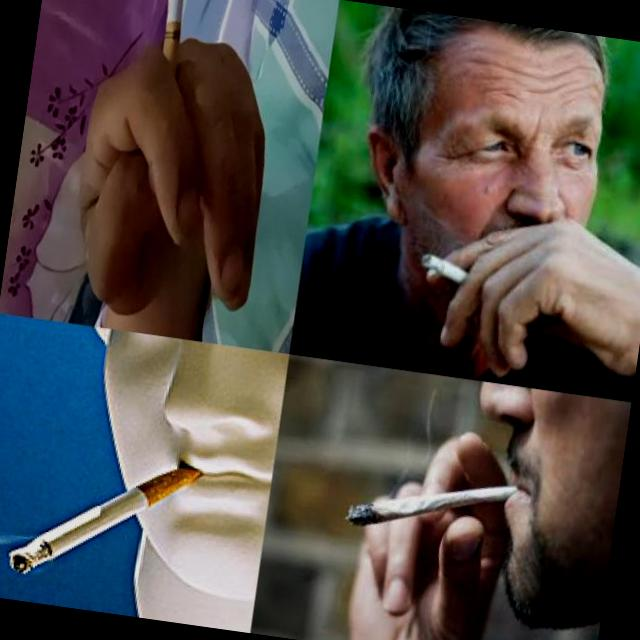smoke: (8, 440, 208, 598), (344, 463, 518, 549), (150, 0, 191, 112), (417, 252, 479, 288)
